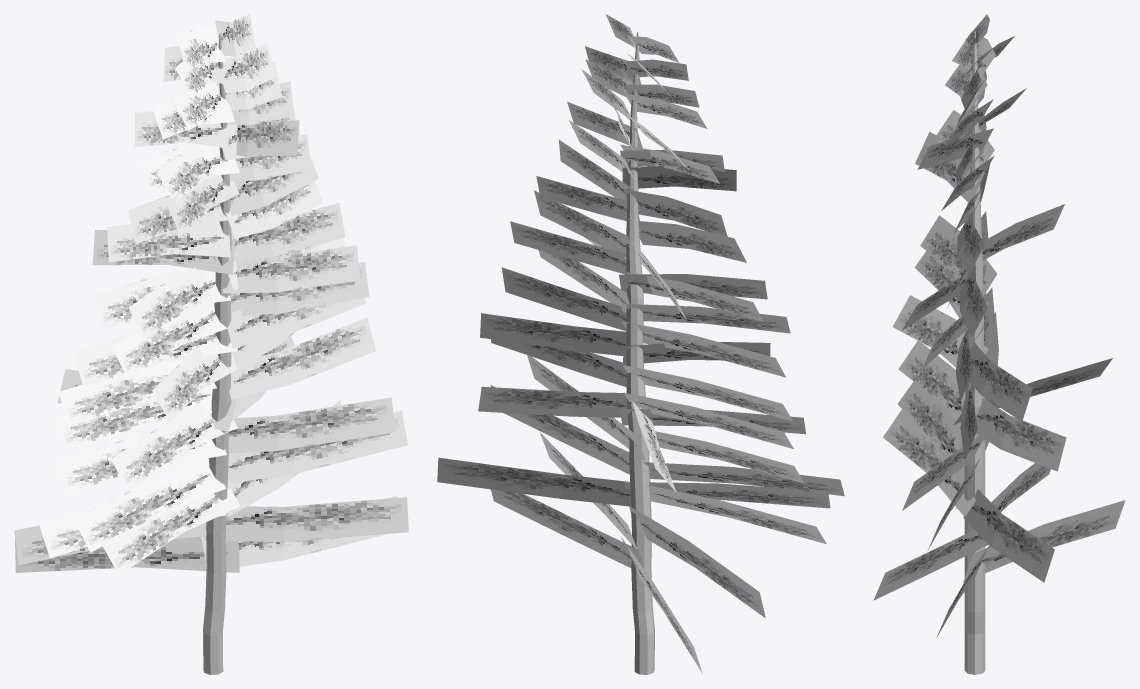
File: Pino2.fbx
3 renders of one model, left to right at view 1: azimuth 30°, elevation 25°; view 2: azimuth 150°, elevation 25°; view 3: azimuth 270°, elevation 25°, orthographic.
Parts seen in each view (by area): view 1: LeafL, LeafS, Tallo; view 2: LeafL, LeafS, Tallo; view 3: LeafL, LeafS, Tallo.
Part boxes in pixels (left/top/right/bottom): LeafL: left=15, top=28, right=396, bottom=575; LeafS: left=14, top=14, right=408, bottom=564; Tallo: left=203, top=33, right=231, bottom=674; LeafL: left=437, top=36, right=830, bottom=673; LeafS: left=490, top=14, right=844, bottom=618; Tallo: left=626, top=31, right=654, bottom=674; LeafL: left=883, top=14, right=1125, bottom=638; LeafS: left=873, top=24, right=1050, bottom=600; Tallo: left=964, top=31, right=985, bottom=674.
Bounding box in the file's own units: 3.38 × 6.06 × 2.12.
Materials: 1 (1 with a texture image).
